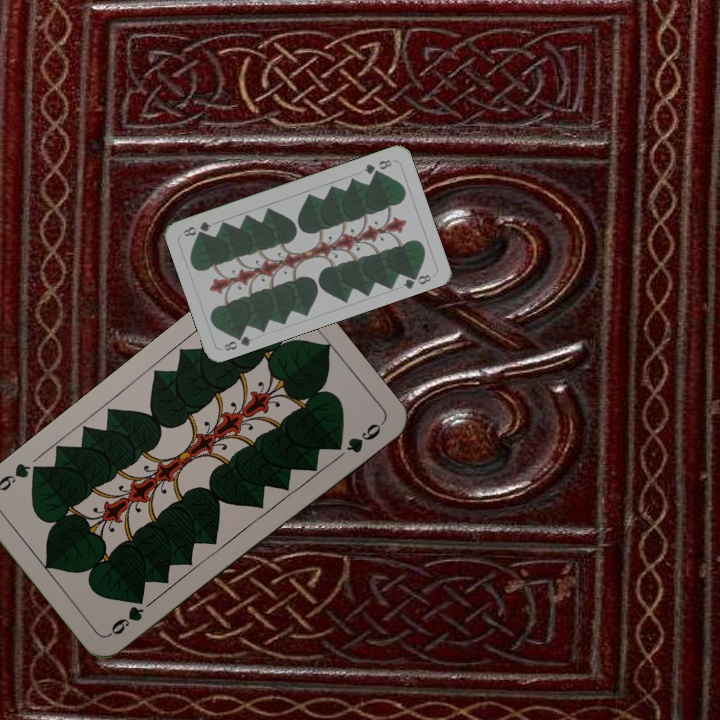G8: (220, 329, 254, 354), (360, 156, 394, 177)
G9: (105, 596, 156, 638)
